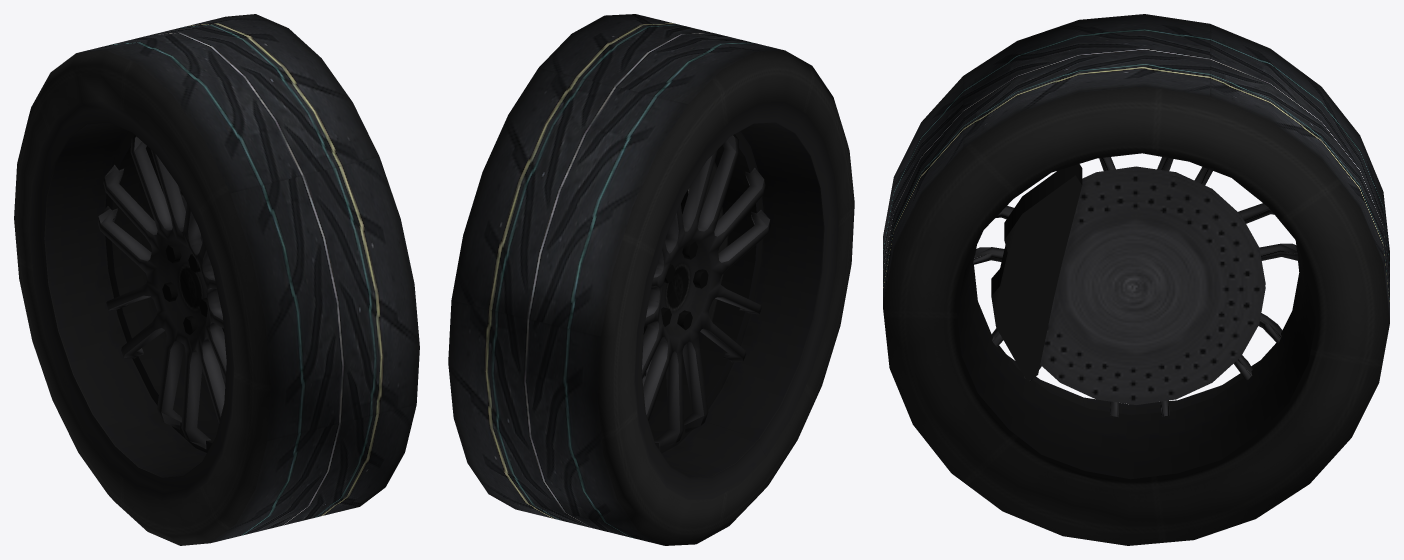
The model's file is WP07_wheelpack.glb.
3 views of the same model, side by side, from view 1: azimuth 30°, elevation 25°; view 2: azimuth 150°, elevation 25°; view 3: azimuth 270°, elevation 25° (orthographic).
Visible parts, largest first — view 1: MOD_ND_WP07_tyre, MOD_ND_WP07_rim; view 2: MOD_ND_WP07_tyre, MOD_ND_WP07_rim, MOD_ND_WP07_brakes; view 3: MOD_ND_WP07_tyre, MOD_ND_WP07_brakes, MOD_ND_WP07_rim.
Boxes of the visible parts, x1,y1,x2,y2 form: MOD_ND_WP07_tyre: [14, 14, 419, 545]; MOD_ND_WP07_rim: [44, 122, 226, 477]; MOD_ND_WP07_tyre: [448, 14, 854, 545]; MOD_ND_WP07_rim: [641, 122, 824, 477]; MOD_ND_WP07_brakes: [642, 161, 728, 386]; MOD_ND_WP07_tyre: [883, 14, 1389, 545]; MOD_ND_WP07_brakes: [991, 164, 1265, 404]; MOD_ND_WP07_rim: [956, 157, 1316, 479].
Size of the model in its own units: 0.2343 by 0.6414 by 0.6414.
2 materials, 2 textured.
